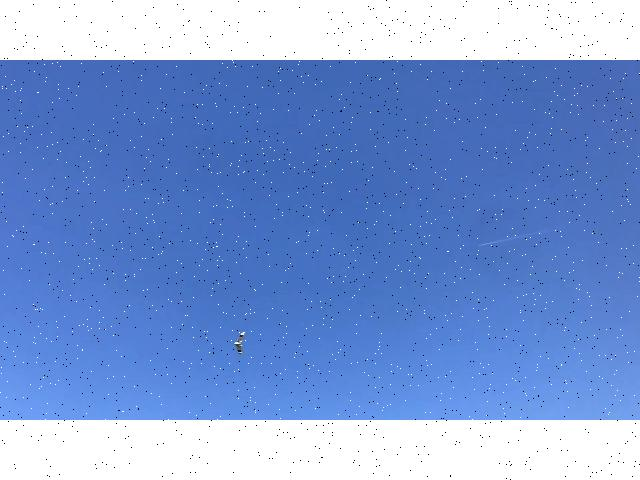Anti-Drone: (228, 322, 258, 361)
